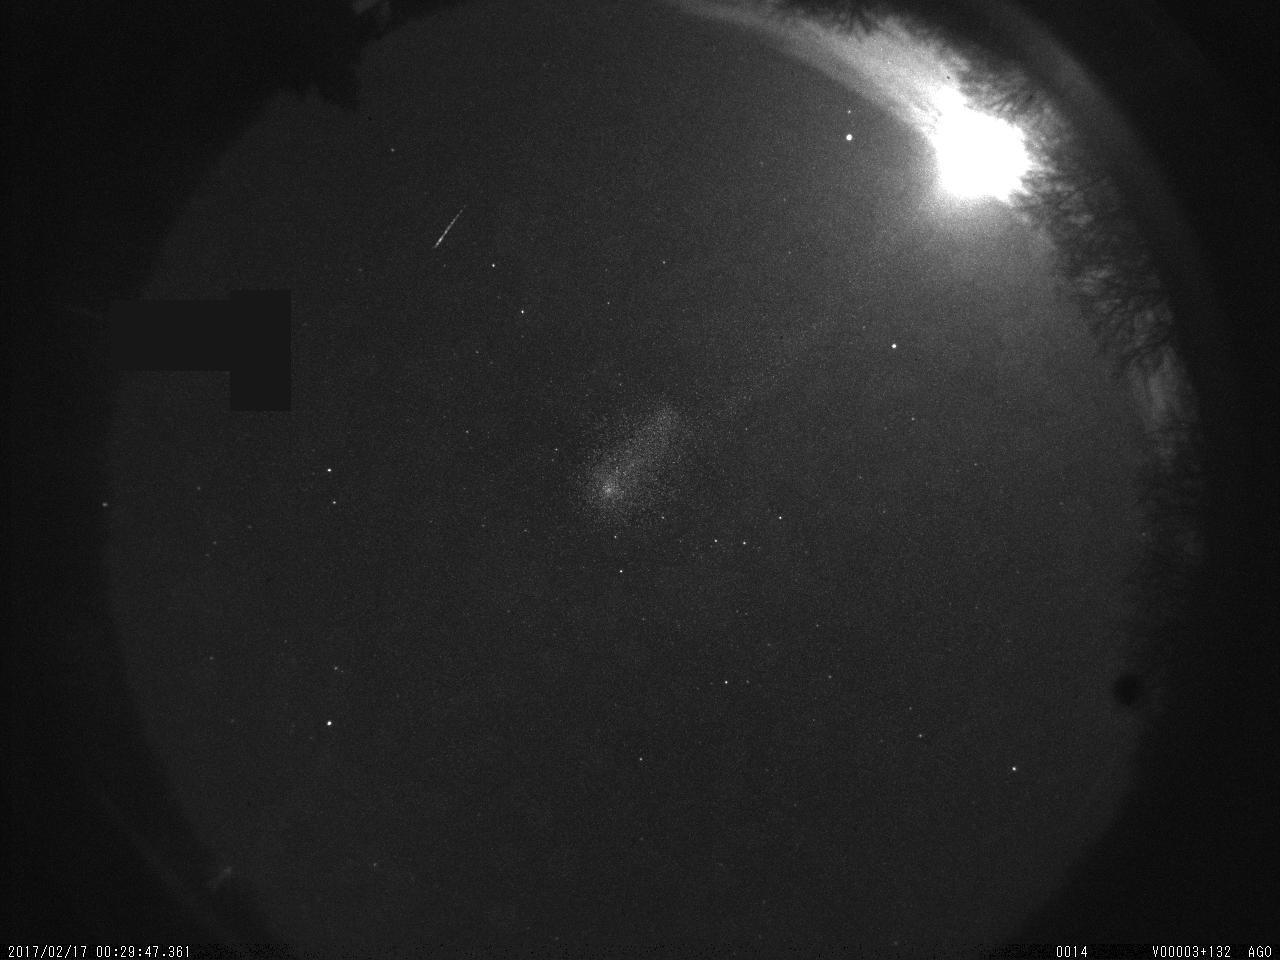meteor: (426, 194, 476, 255)
